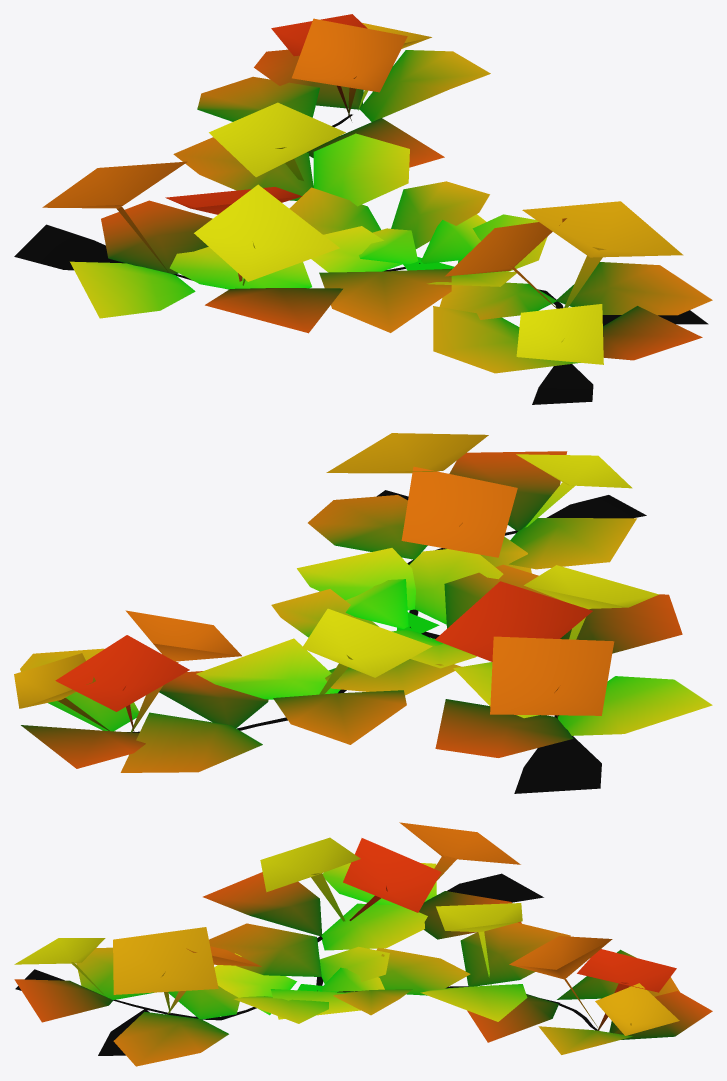
The model's file is Mile-a-minute Vine_LOD1_Var2_sfqns.fbx.
3 renders of one model, top to bottom at view 1: azimuth 30°, elevation 25°; view 2: azimuth 150°, elevation 25°; view 3: azimuth 270°, elevation 25°, orthographic. The views are drawn at different scales.
Parts seen in each view (by area): view 1: _b1db_Var2_LOD1; view 2: _b1db_Var2_LOD1; view 3: _b1db_Var2_LOD1.
Boxes of the visible parts, bbox=[...] form: _b1db_Var2_LOD1: bbox=[14, 14, 712, 404]; _b1db_Var2_LOD1: bbox=[14, 433, 712, 793]; _b1db_Var2_LOD1: bbox=[14, 822, 712, 1066].
Size of the model in its own units: 33.84 by 6.43 by 47.06.
